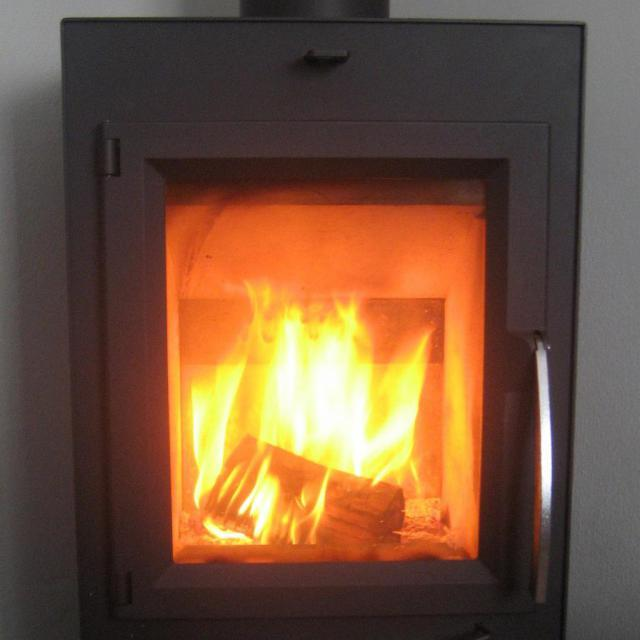Fire: (176, 197, 484, 565)
